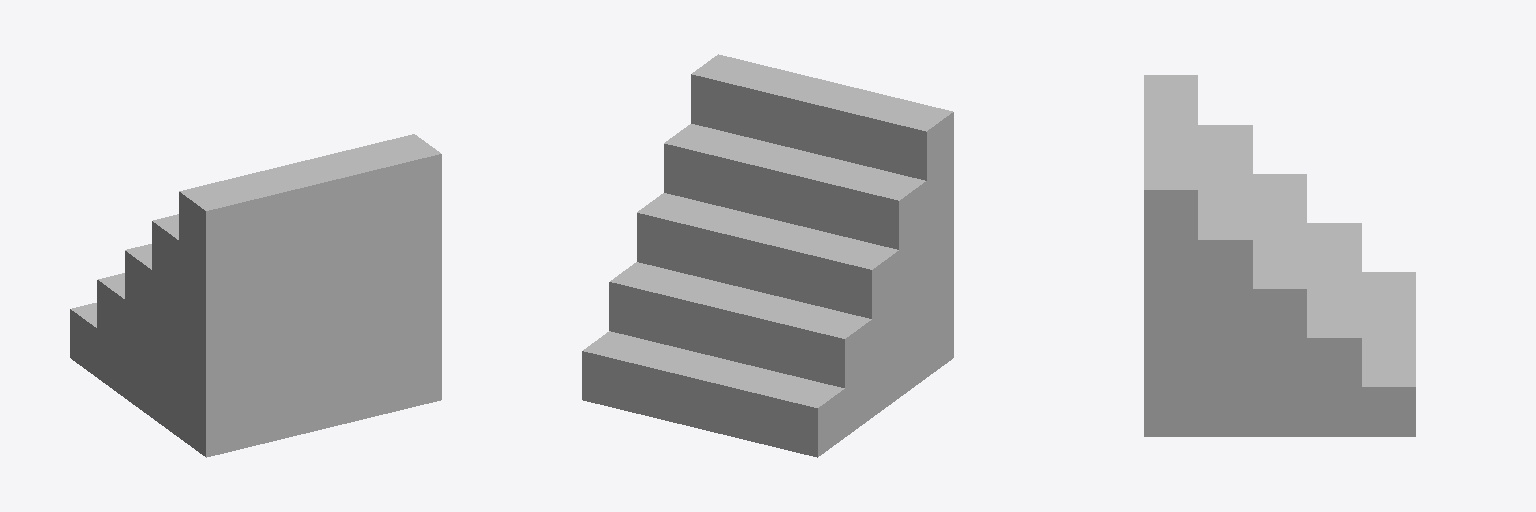
Rendered from staircase.obj.
3 renders of one model, left to right at view 1: azimuth 30°, elevation 25°; view 2: azimuth 150°, elevation 25°; view 3: azimuth 270°, elevation 25°, orthographic.
Visible parts, largest first — view 1: Stairs_Cube.002; view 2: Stairs_Cube.002; view 3: Stairs_Cube.002.
Part boxes in pixels (x1,y1,x2,y2): Stairs_Cube.002: (70, 134, 441, 457); Stairs_Cube.002: (582, 54, 953, 457); Stairs_Cube.002: (1144, 75, 1415, 436).
Size of the model in its own units: 2 by 2 by 2.